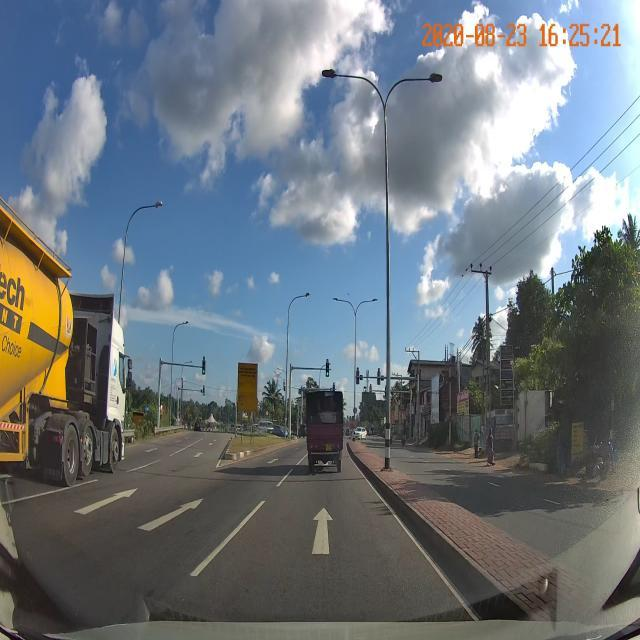forward: (189, 491, 463, 581)
